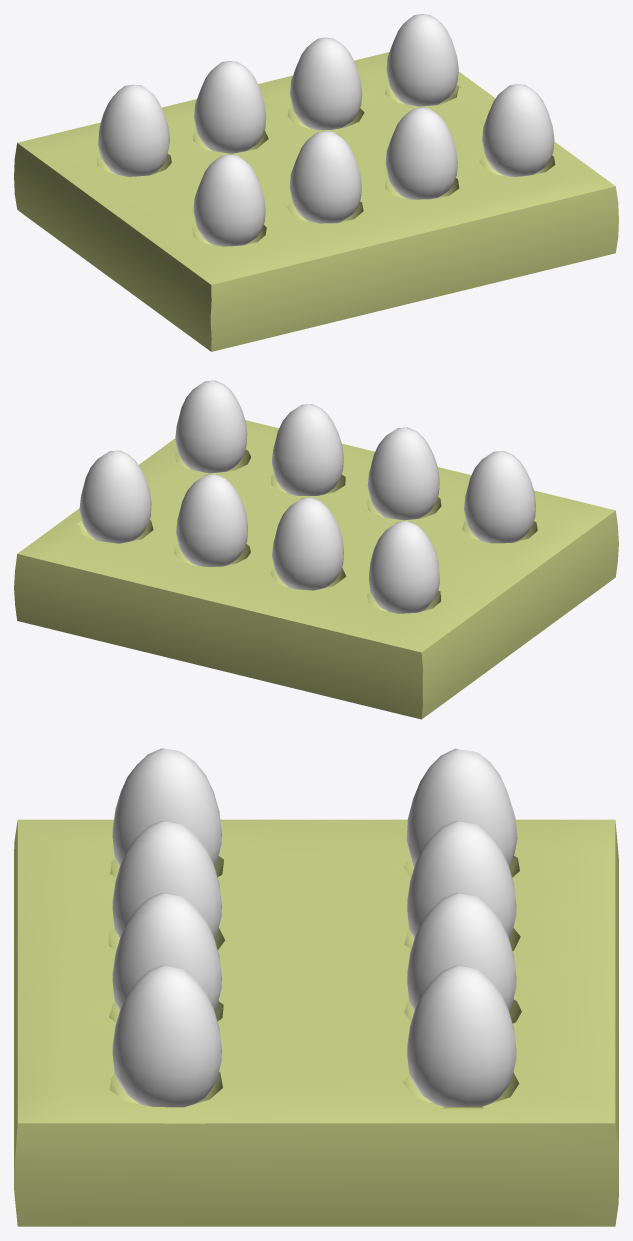
The model's file is eggs.glb.
The picture shows the model from 3 angles, top to bottom: view 1: azimuth 30°, elevation 25°; view 2: azimuth 150°, elevation 25°; view 3: azimuth 270°, elevation 25°; orthographic projection. The views are drawn at different scales.
Parts seen in each view (by area): view 1: Box001, Sphere019; view 2: Box001, Sphere019; view 3: Box001, Sphere019.
Part boxes in pixels (box(x1,y1,x2,y2)): Box001: box(14, 52, 618, 351); Sphere019: box(98, 14, 554, 246); Box001: box(14, 420, 618, 719); Sphere019: box(79, 380, 535, 613); Box001: box(14, 819, 618, 1226); Sphere019: box(112, 748, 517, 1107).
Bounding box in the file's own units: 0.1524 × 0.0524 × 0.127.
